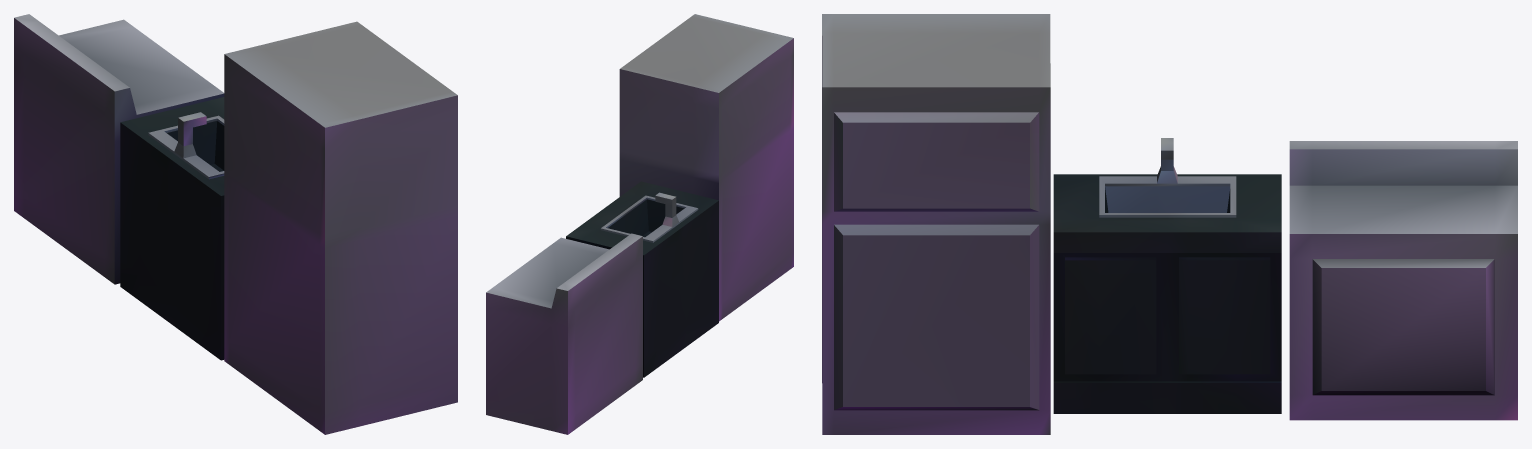
Rendered from freestanding_kitchen.FBX.
3 renders of one model, left to right at view 1: azimuth 30°, elevation 25°; view 2: azimuth 150°, elevation 25°; view 3: azimuth 270°, elevation 25°, orthographic. The views are drawn at different scales.
Visible parts, largest first — view 1: freestanding kitchen; view 2: freestanding kitchen; view 3: freestanding kitchen.
Boxes of the visible parts, left/top/right/bottom form: freestanding kitchen: left=14, top=14, right=457, bottom=434; freestanding kitchen: left=486, top=14, right=793, bottom=434; freestanding kitchen: left=822, top=14, right=1517, bottom=434.
Size of the model in its own units: 0.8215 by 1.68 by 3.05.
